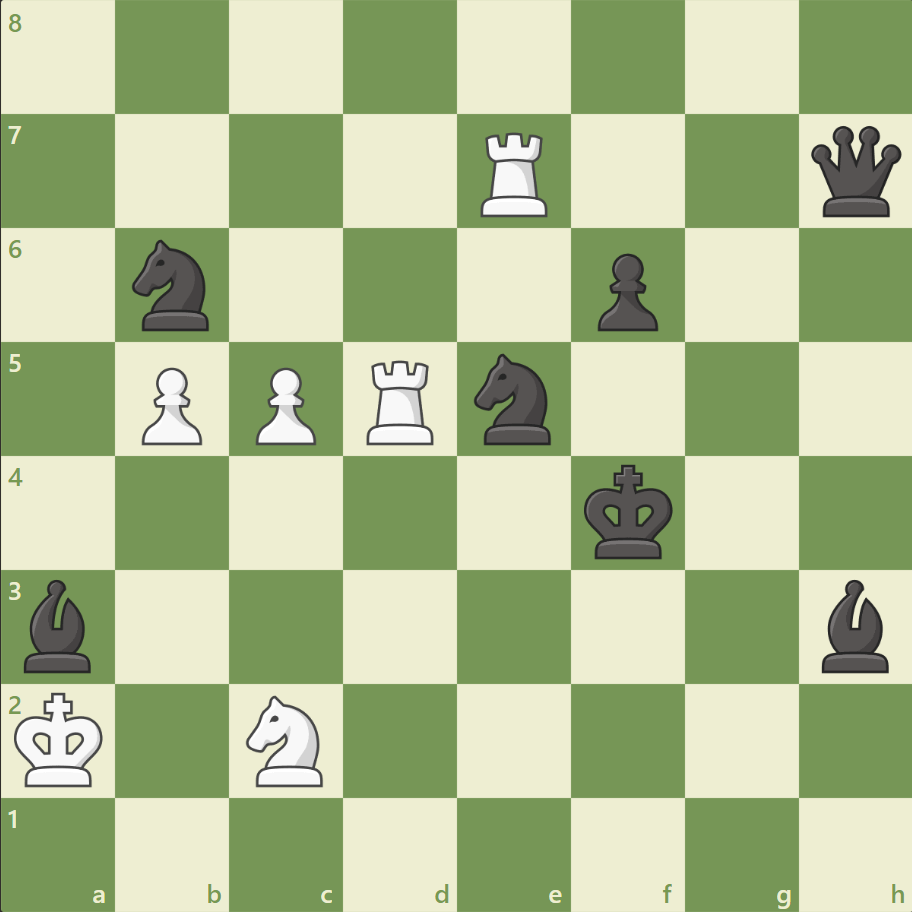K: (11, 685, 111, 793)
N: (238, 688, 335, 791)
P: (133, 359, 208, 450), (247, 359, 322, 450)
R: (473, 125, 556, 222), (360, 352, 442, 449)
b: (17, 574, 101, 676), (812, 574, 896, 676)
k: (579, 458, 679, 566)
n: (124, 234, 222, 337), (465, 348, 562, 450)
p: (588, 246, 662, 337)
q: (805, 122, 904, 222)
